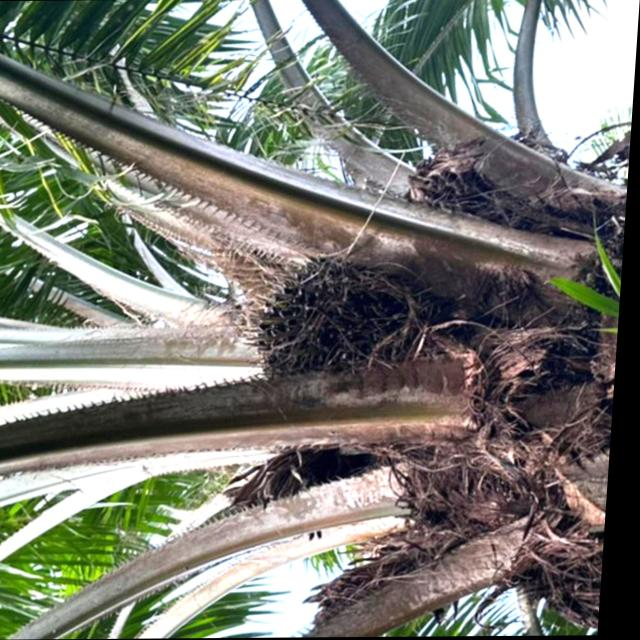unripe: (257, 242, 471, 395)
